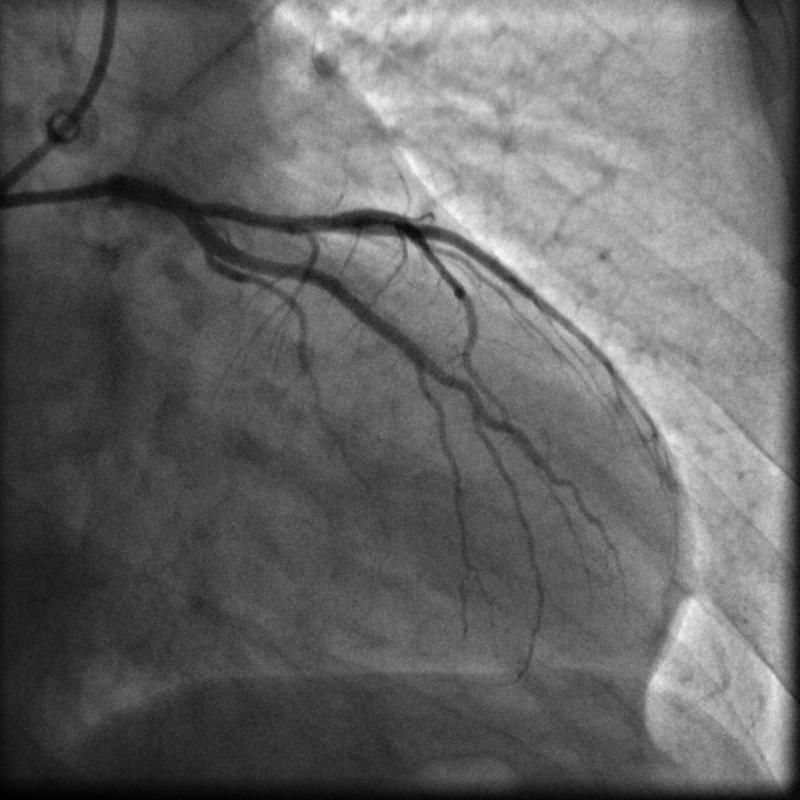Stenosis: (180, 192, 229, 219)
